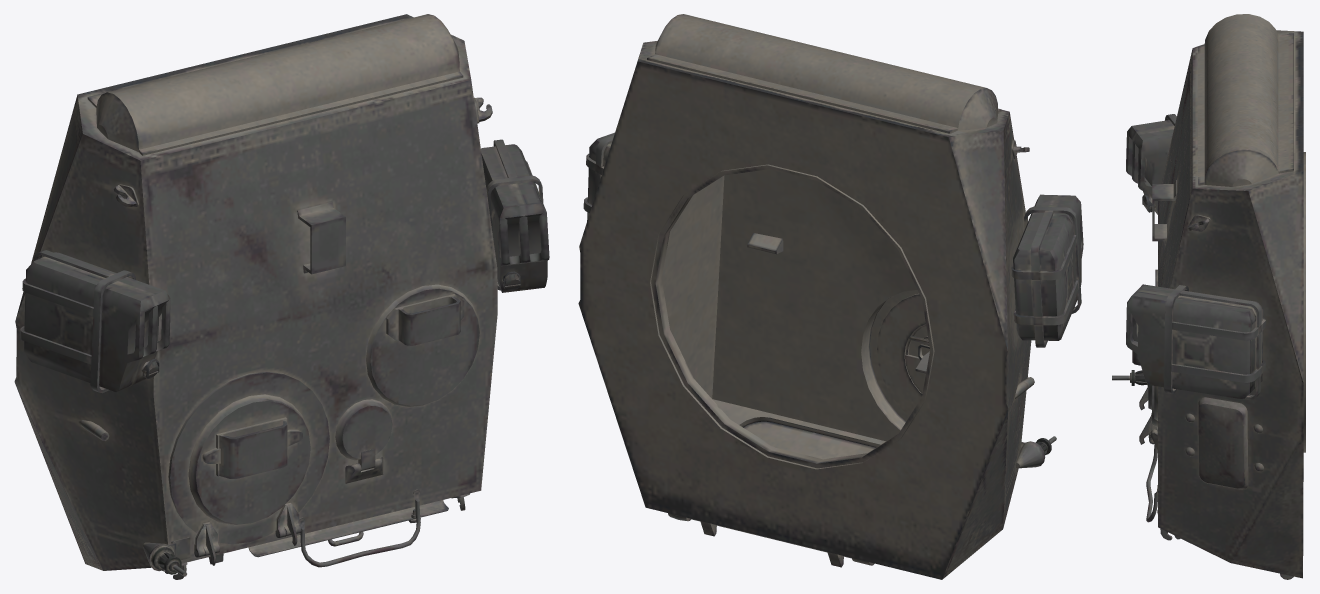
The model's file is Turret_01.glb.
3 renders of one model, left to right at view 1: azimuth 30°, elevation 25°; view 2: azimuth 150°, elevation 25°; view 3: azimuth 270°, elevation 25°, orthographic. The views are drawn at different scales.
Parts seen in each view (by area): view 1: set_0_group_0; view 2: set_0_group_0; view 3: set_0_group_0.
Part boxes in pixels (<box>): set_0_group_0: <box>14,14,549,579</box>; set_0_group_0: <box>578,14,1083,579</box>; set_0_group_0: <box>1112,14,1305,579</box>.
Size of the model in its own units: 1.76 by 1.71 by 0.6693.
1 material, 1 textured.
